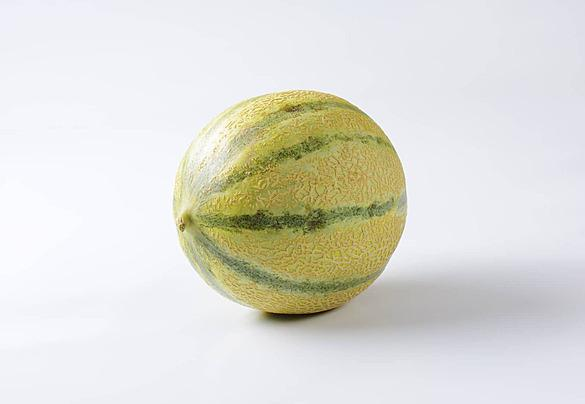cantaloupe: (171, 88, 408, 316)
